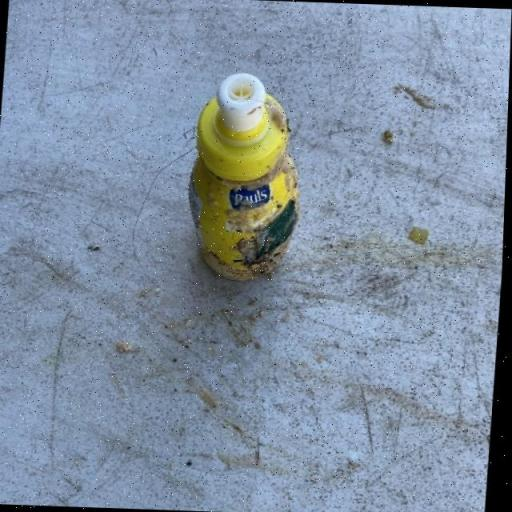plastic: (182, 69, 309, 282)
